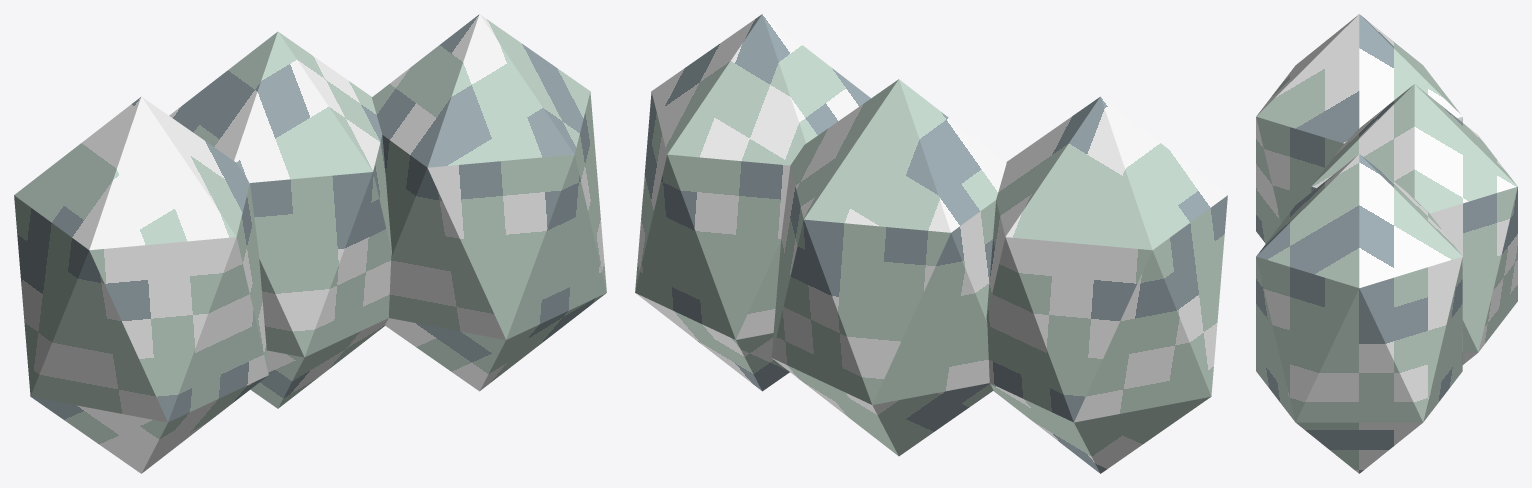
The model's file is a15_ovos.glb.
3 views of the same model, side by side, from view 1: azimuth 30°, elevation 25°; view 2: azimuth 150°, elevation 25°; view 3: azimuth 270°, elevation 25° (orthographic). The views are drawn at different scales.
Parts seen in each view (by area): view 1: a15_ovos; view 2: a15_ovos; view 3: a15_ovos.
Part boxes in pixels (x1=…): a15_ovos: x1=14, y1=14, x2=606, y2=473; a15_ovos: x1=635, y1=14, x2=1227, y2=473; a15_ovos: x1=1256, y1=14, x2=1517, y2=473.
Bounding box in the file's own units: 0.9935 × 0.64 × 0.4743.
1 material, 1 textured.
